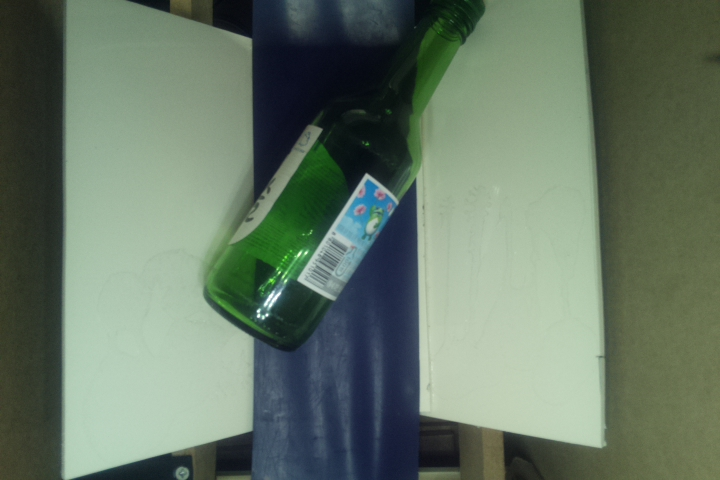soju: (200, 1, 484, 351)
